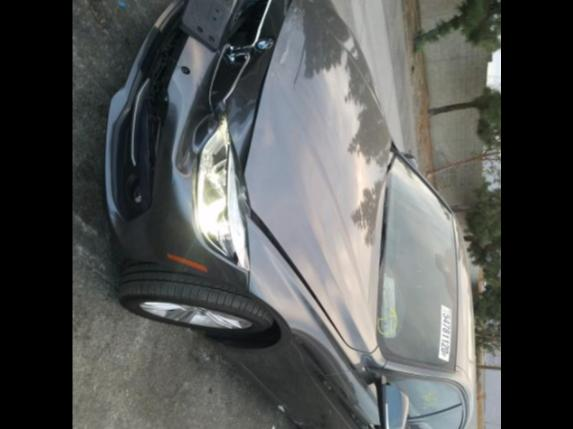Broken part: (105, 0, 296, 292), (236, 170, 344, 340), (209, 0, 270, 111)
Missing part: (182, 0, 232, 47)
